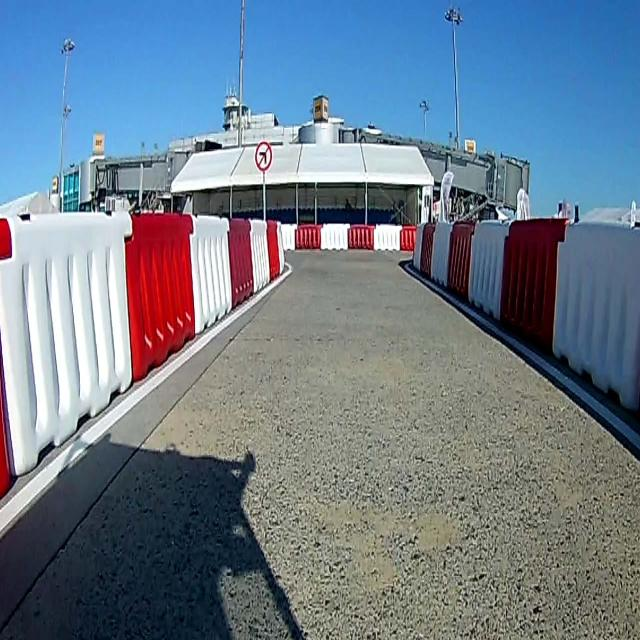soladonulmez: (255, 140, 273, 172)
